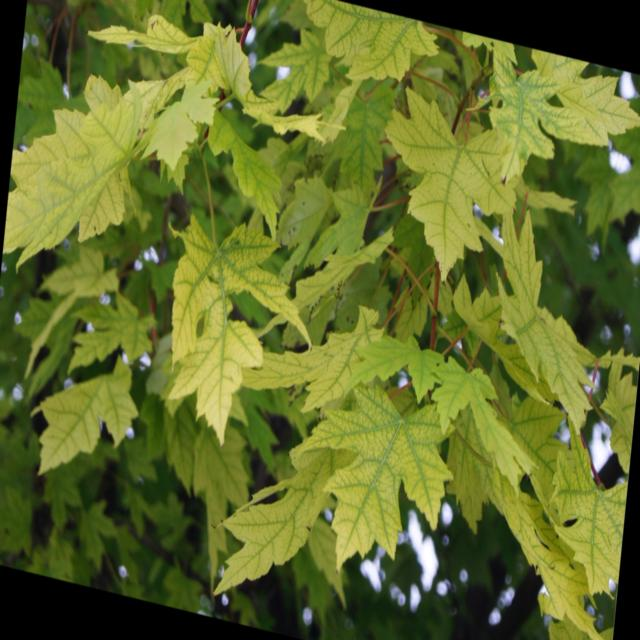Chlorosis: (14, 23, 640, 628)
